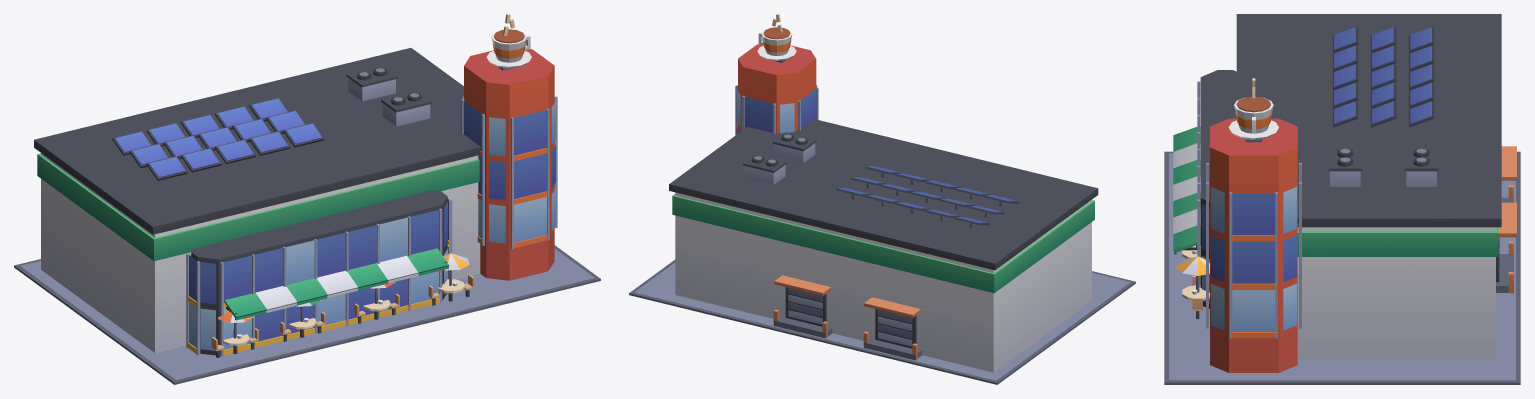
File: com_supermarket_plaza_3x2.glb
The picture shows the model from 3 angles, left to right: view 1: azimuth 30°, elevation 25°; view 2: azimuth 150°, elevation 25°; view 3: azimuth 270°, elevation 25°; orthographic projection. The views are drawn at different scales.
Parts seen in each view (by area): view 1: com_supermarket_plaza_3x2; view 2: com_supermarket_plaza_3x2; view 3: com_supermarket_plaza_3x2.
Boxes of the visible parts, x1,y1,x2,y2 form: com_supermarket_plaza_3x2: (14,14,600,384); com_supermarket_plaza_3x2: (629,14,1135,384); com_supermarket_plaza_3x2: (1164,14,1520,384).
Bounding box in the file's own units: 5.74 × 3.21 × 3.74.
1 material, 1 textured.
